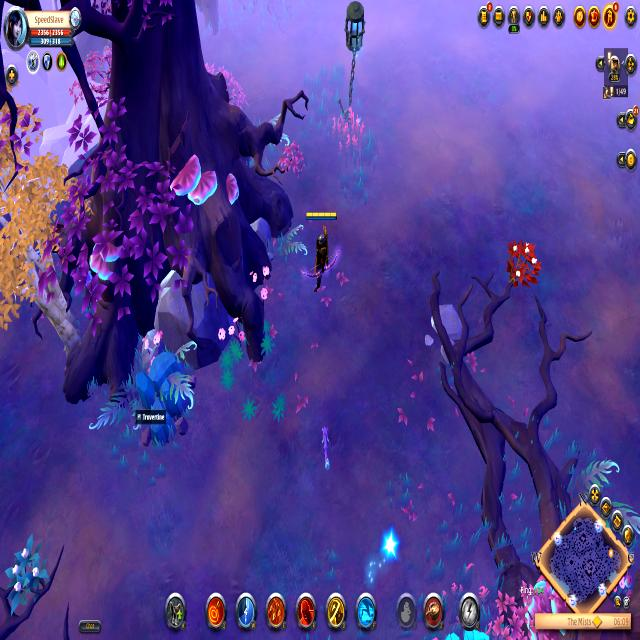10: (336, 0, 372, 134)
hide: (0, 534, 54, 620), (504, 233, 543, 294)
red: (303, 203, 341, 288)
tree: (129, 344, 200, 455)
wisp caged: (0, 113, 84, 334)
